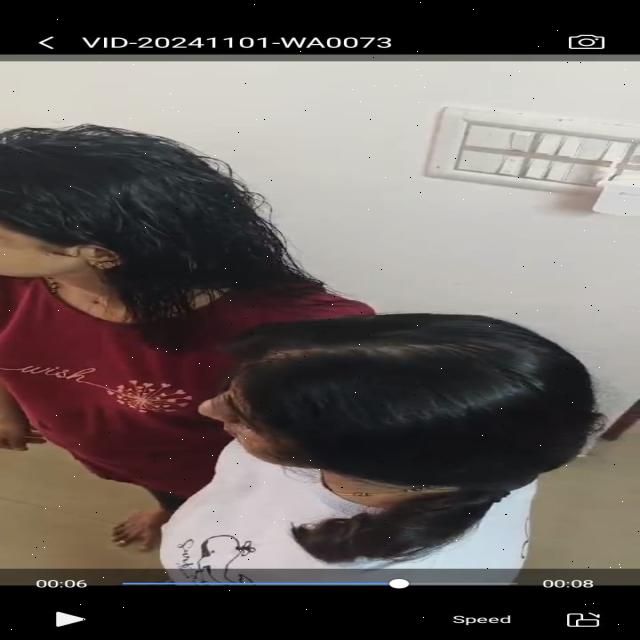humans: (139, 313, 640, 568), (0, 116, 381, 318)
